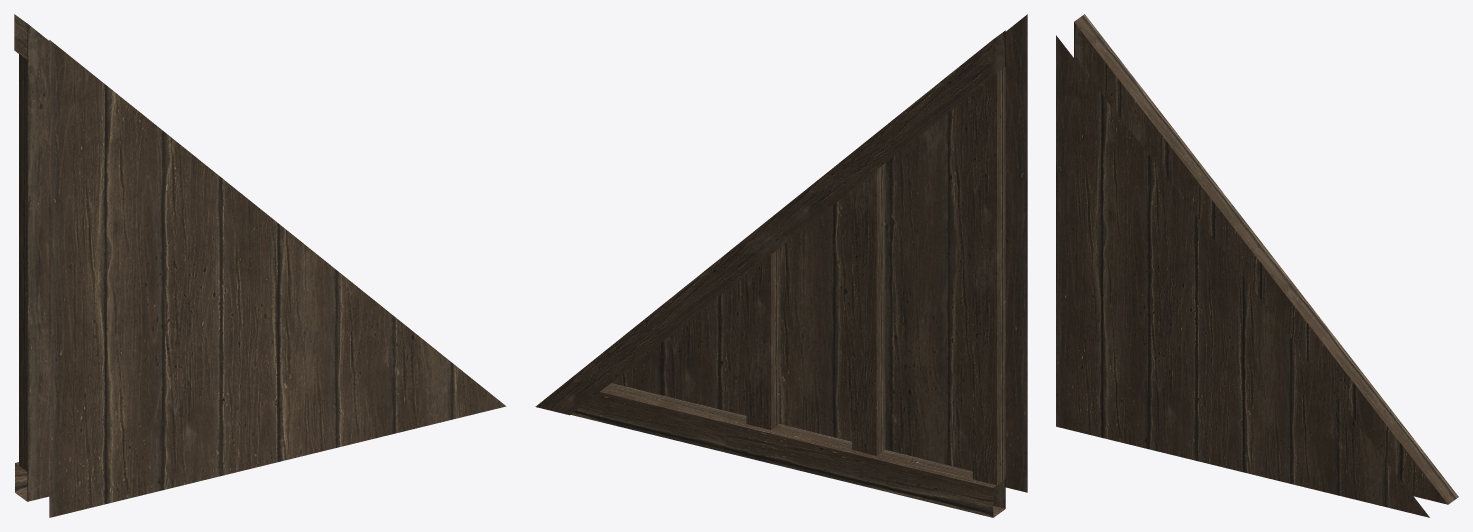
The model's file is ARC1010315.fbx.
3 views of the same model, side by side, from view 1: azimuth 30°, elevation 25°; view 2: azimuth 150°, elevation 25°; view 3: azimuth 330°, elevation 25° (orthographic). The views are drawn at different scales.
Visible parts, largest first — view 1: smARC1010315; view 2: smARC1010315; view 3: smARC1010315.
Boxes of the visible parts, x1=… form: smARC1010315: x1=14, y1=14, x2=506, y2=517; smARC1010315: x1=535, y1=14, x2=1027, y2=517; smARC1010315: x1=1056, y1=14, x2=1458, y2=517.
Size of the model in its own units: 268 by 268 by 35.62.
Materials: 1 (1 with a texture image).
